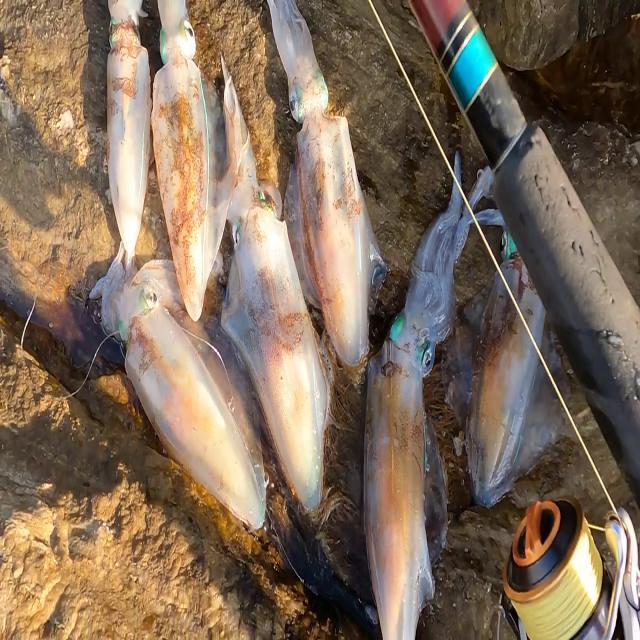squid: (365, 148, 504, 640), (104, 258, 266, 529), (268, 0, 383, 372), (451, 252, 564, 510), (151, 0, 236, 324), (218, 76, 300, 335), (104, 0, 152, 274)
